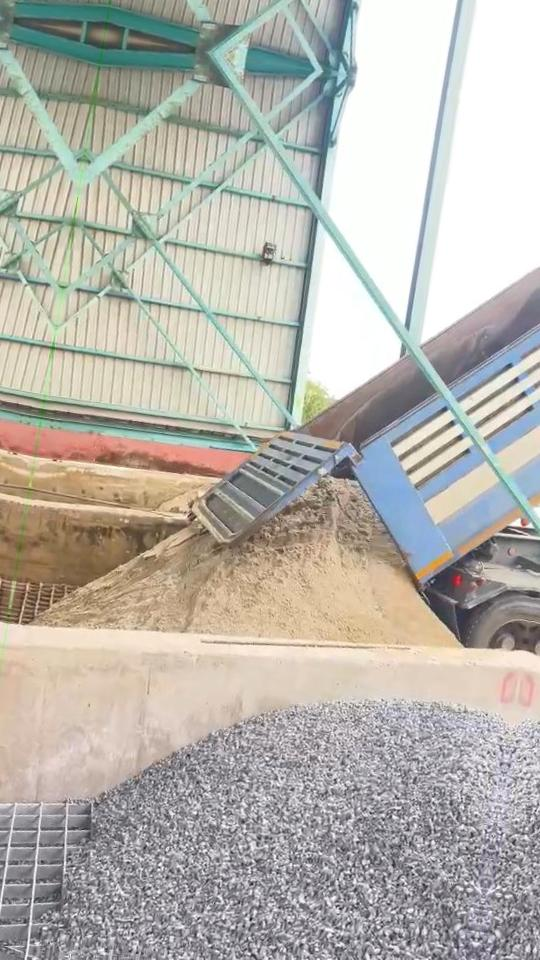gravel: (40, 701, 510, 960)
sand: (37, 478, 456, 646), (155, 481, 213, 514)
